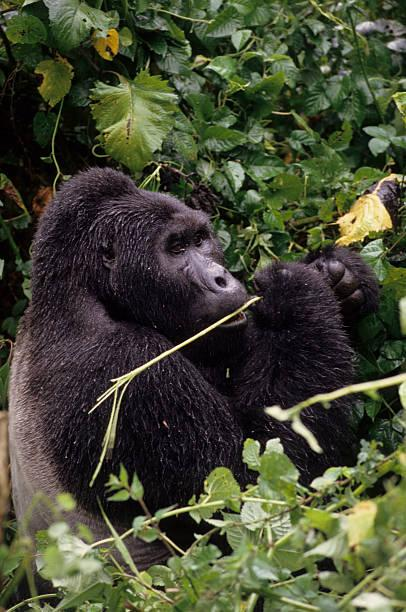goriile_montagne: (17, 145, 384, 557)
